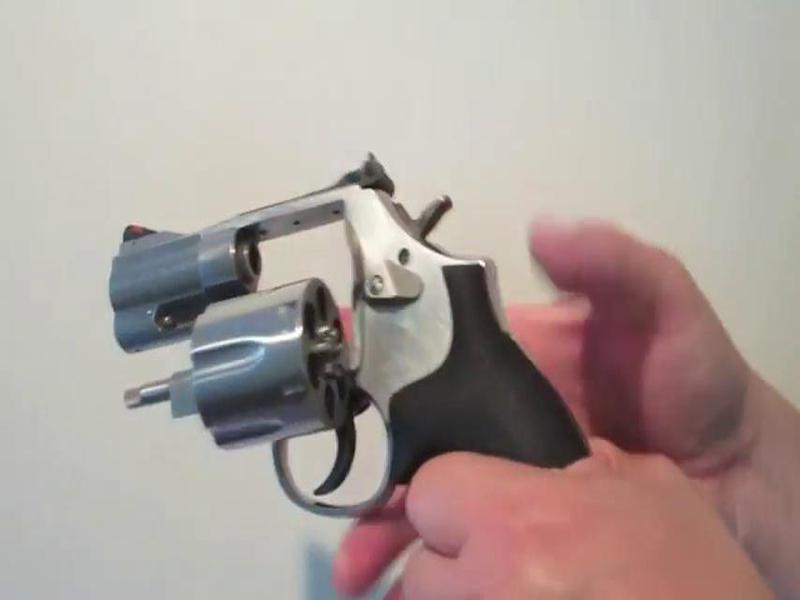Revolver: (84, 137, 618, 526)
